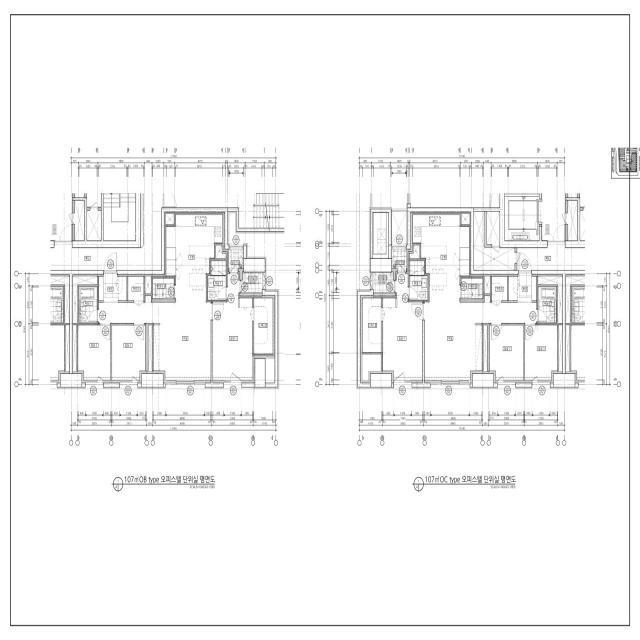space_bedroom: (213, 274, 255, 383), (383, 274, 422, 383), (490, 325, 524, 383), (112, 325, 146, 383), (78, 325, 111, 383), (525, 325, 557, 383)
space_dressroom: (254, 295, 275, 356), (361, 295, 381, 352)
space_elevator: (505, 196, 539, 241)
space_elevator_hall: (50, 192, 253, 270), (474, 193, 585, 271)
space_front: (104, 273, 127, 303), (518, 272, 536, 303)
space_kitchen: (411, 212, 471, 302), (165, 213, 225, 302)
space_living_room: (425, 296, 537, 383), (99, 296, 211, 383)
space_multipurpose_space: (461, 278, 483, 299), (153, 278, 174, 299)
space_other: (538, 275, 563, 323), (73, 275, 97, 323), (361, 354, 381, 383), (373, 213, 386, 254), (240, 272, 262, 293), (87, 209, 101, 241), (373, 272, 394, 292), (128, 275, 144, 301), (492, 275, 507, 301), (370, 374, 392, 387), (265, 356, 275, 383), (509, 275, 517, 301), (483, 325, 487, 374), (559, 325, 563, 374), (73, 325, 77, 373), (148, 325, 152, 373), (409, 245, 419, 259), (461, 212, 471, 225), (216, 245, 226, 258), (99, 275, 104, 300), (484, 275, 490, 294), (145, 275, 151, 294), (166, 214, 174, 224)
space_outdoor_room: (227, 249, 244, 274), (392, 249, 408, 272)
space_staircase: (104, 193, 136, 241), (253, 193, 284, 228)
space_toilet: (409, 260, 428, 300), (208, 260, 226, 301), (538, 286, 557, 323), (79, 286, 97, 323)
